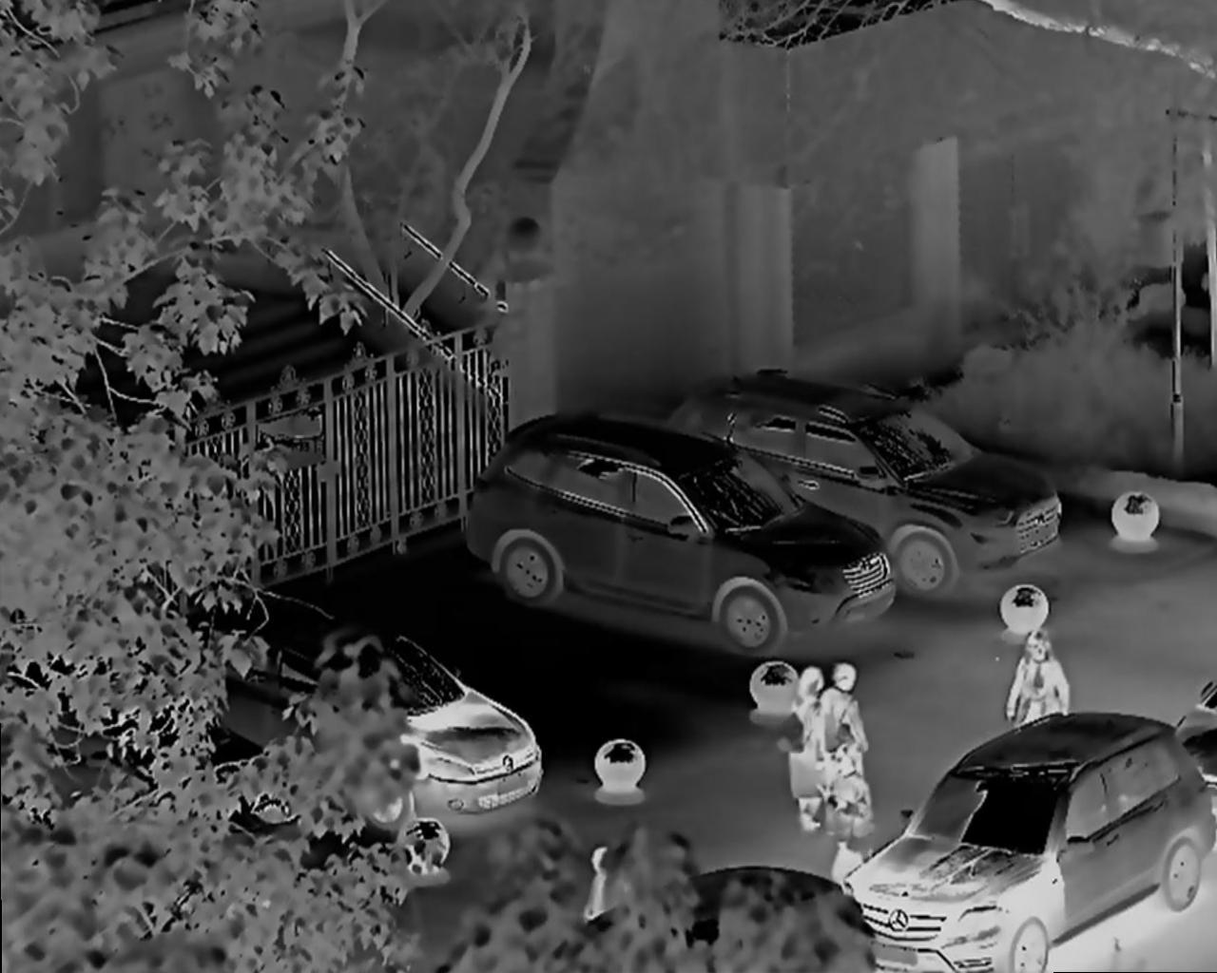person: (1006, 629, 1070, 757), (823, 742, 870, 895), (784, 658, 821, 848), (825, 663, 867, 811)
